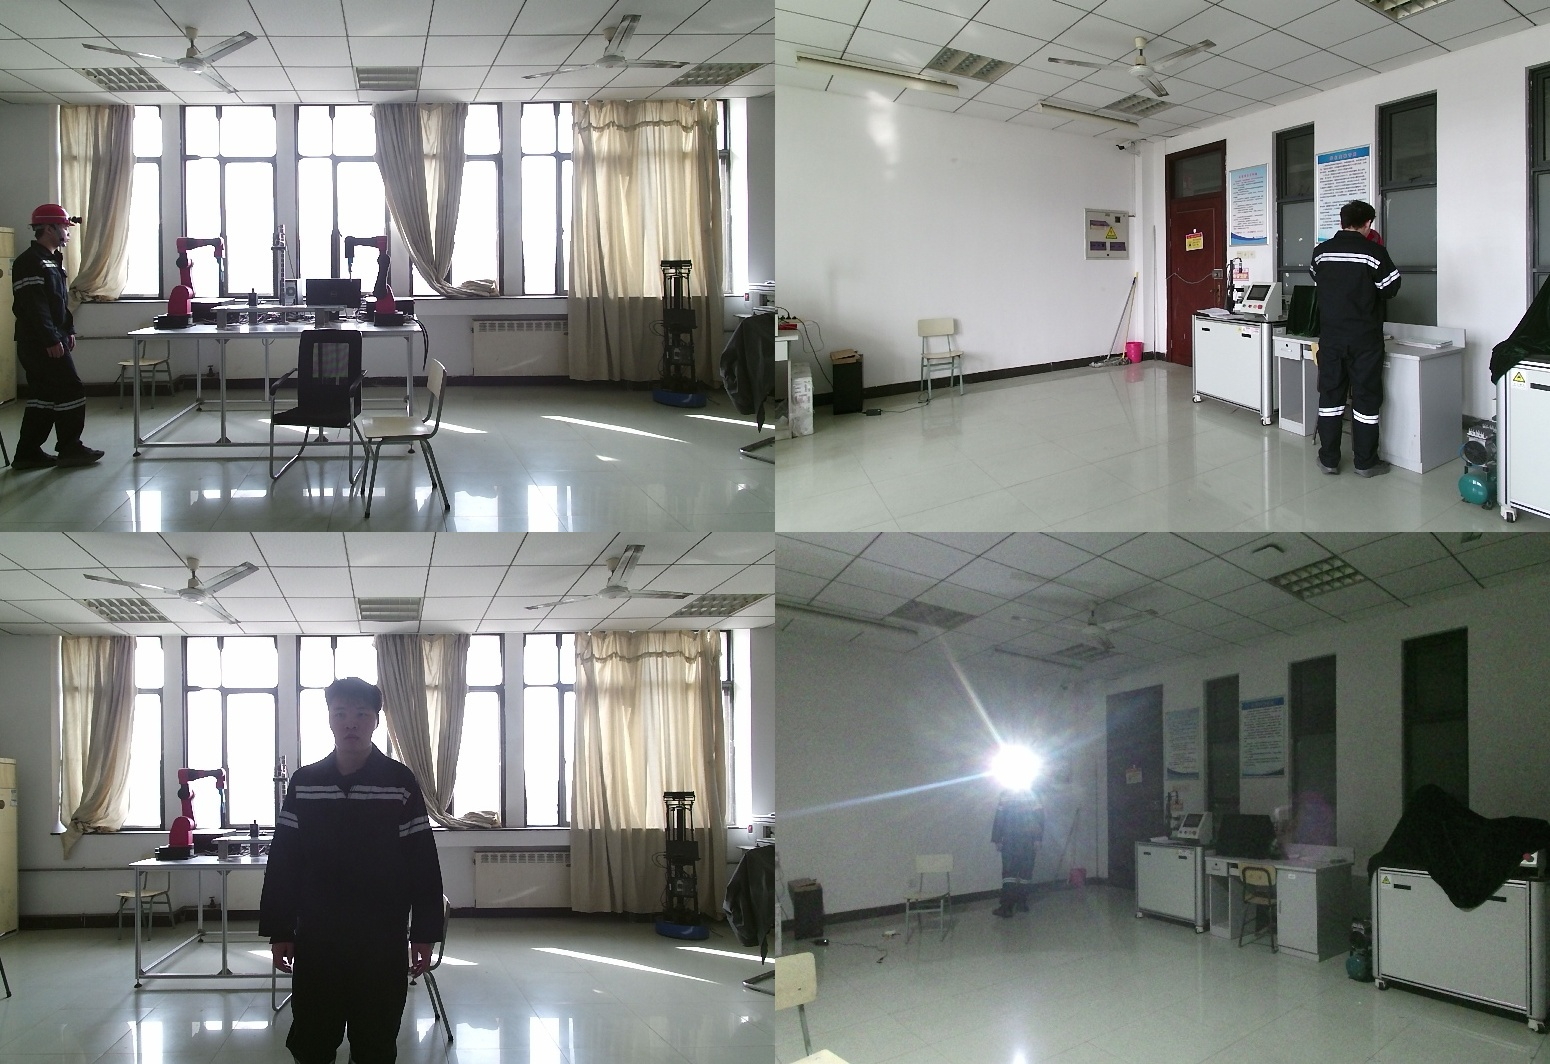person: (268, 678, 458, 1064), (1305, 203, 1426, 474), (7, 204, 114, 468), (991, 763, 1049, 922)
